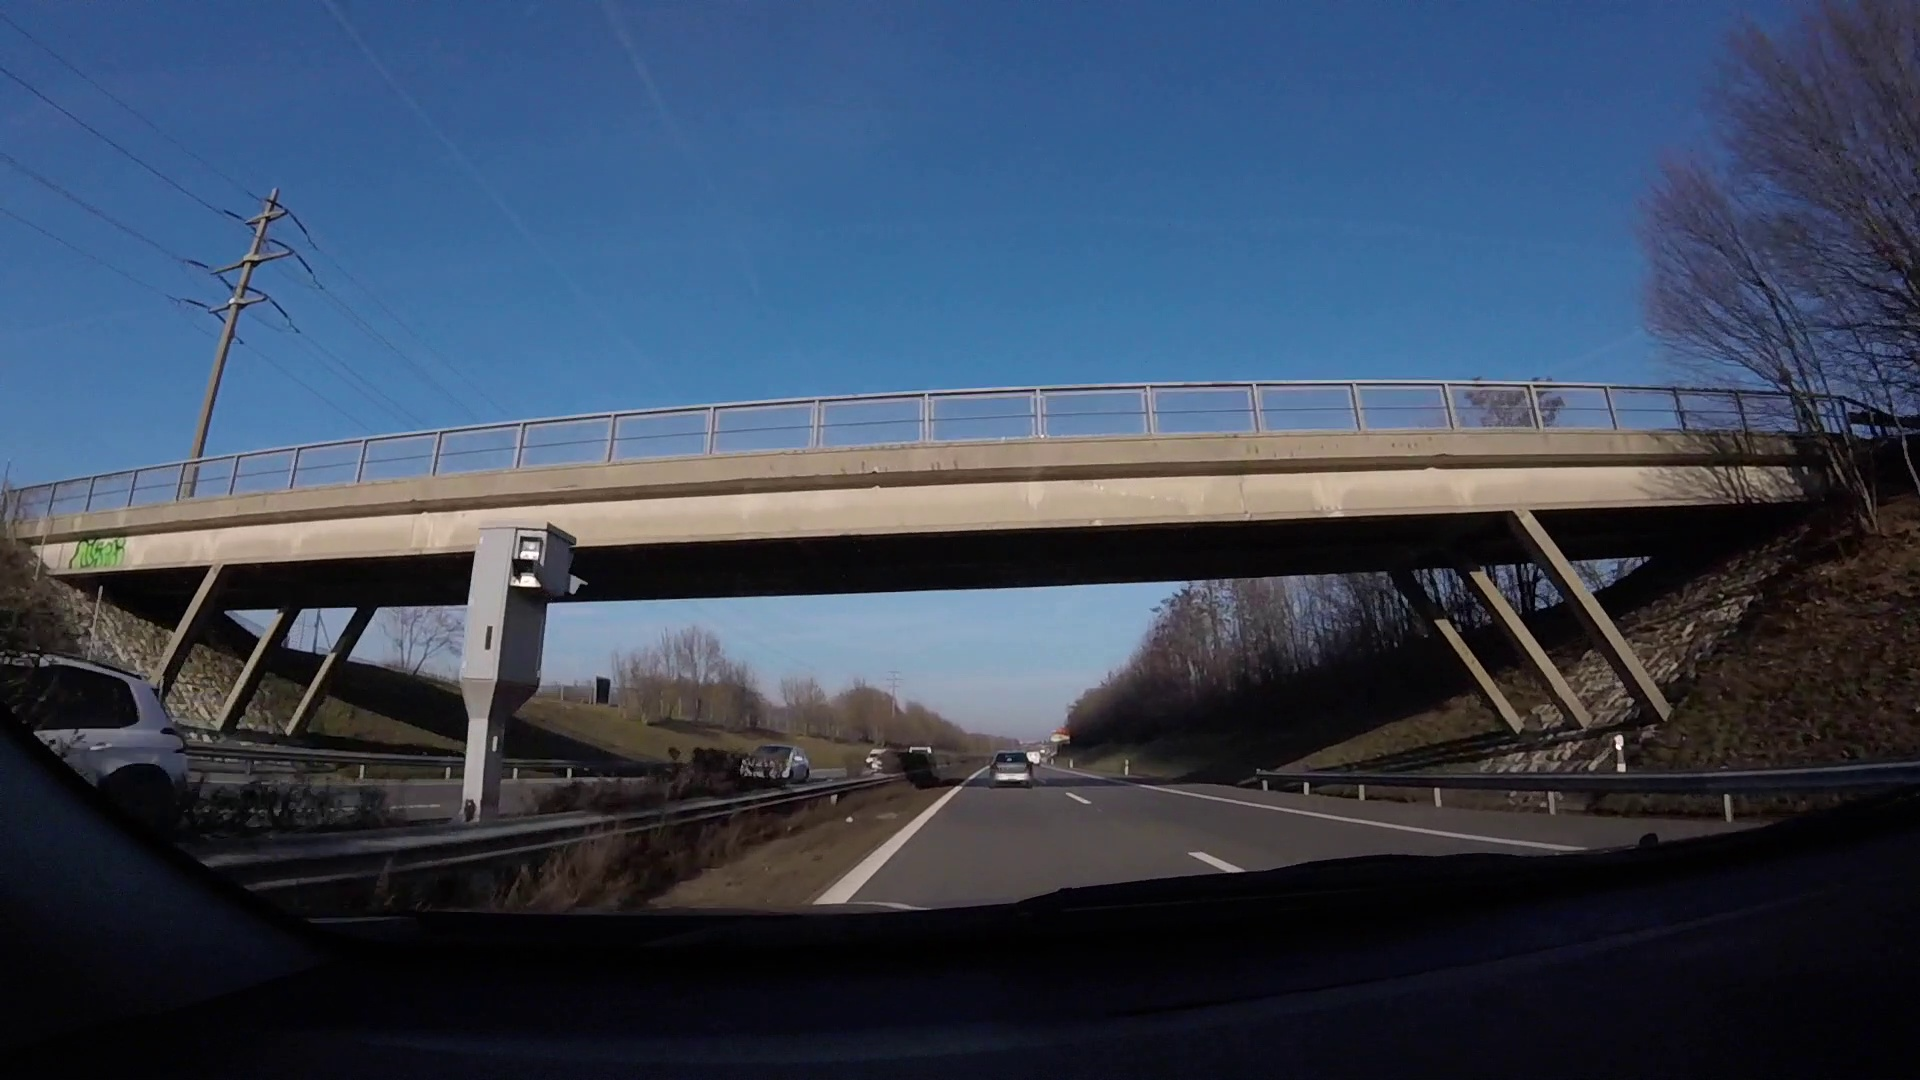radar: (459, 516, 578, 822)
